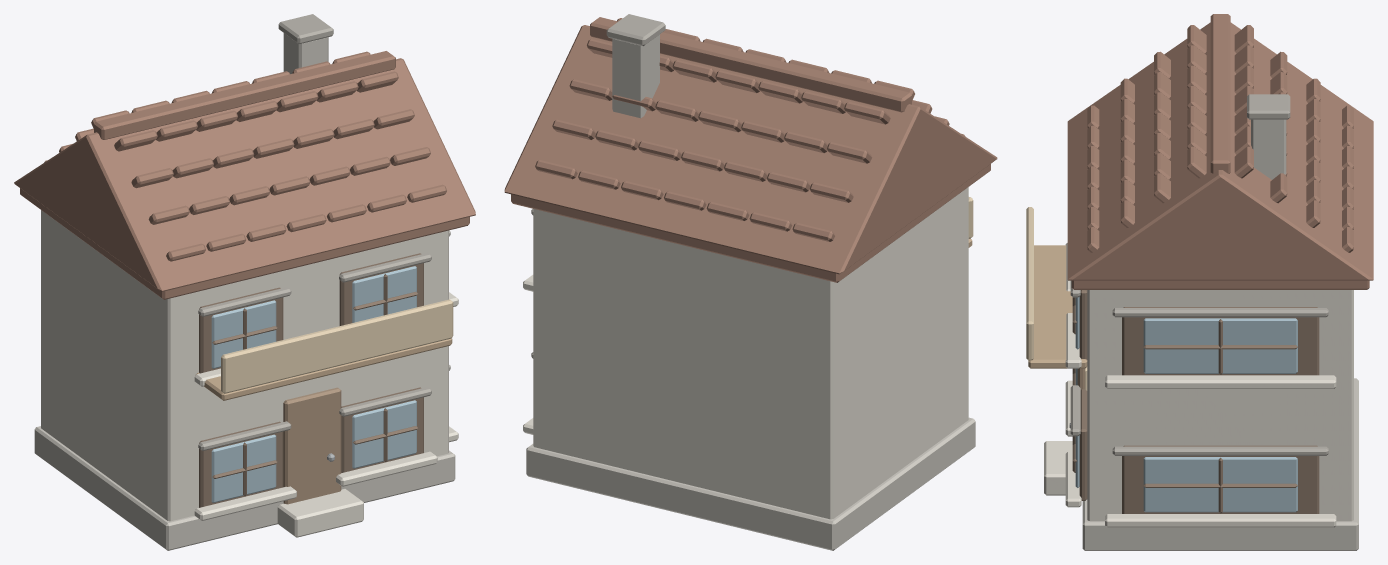
The model's file is house_stone_a.glb.
The picture shows the model from 3 angles, left to right: view 1: azimuth 30°, elevation 25°; view 2: azimuth 150°, elevation 25°; view 3: azimuth 270°, elevation 25°; orthographic projection. The views are drawn at different scales.
Visible parts, largest first — view 1: wall, roof, rail, skirt, ridge, dframe, eave, wglass.001, wglass, step, wglass.002, wglass.003 (+13 smaller); view 2: wall, roof, skirt, ridge, eave, chimney, chcap, shingle.049, shingle.050, shingle.051, shingle.052, shingle.053; view 3: roof, wall, wglass.004, wglass.005, skirt, balcony, wframe.005, wframe.004, ridge, wsill.004, wsill.005, eave (+16 smaller).
Boxes of the visible parts, x1,y1,x2,y2 form: wall: (41, 210, 448, 521); roof: (14, 58, 475, 291); rail: (221, 299, 453, 393); skirt: (34, 426, 455, 550); ridge: (94, 51, 395, 139); dframe: (283, 387, 341, 504); eave: (20, 188, 469, 299); wglass.001: (352, 400, 416, 468); wglass: (211, 434, 276, 502); step: (277, 489, 363, 537); wglass.002: (211, 300, 276, 368); wglass.003: (352, 266, 416, 322); wall: (533, 187, 968, 519); roof: (504, 25, 997, 274); skirt: (526, 417, 975, 550); ridge: (590, 17, 911, 112); eave: (511, 164, 990, 282); chimney: (612, 34, 659, 118); chcap: (606, 14, 665, 46); shingle.049: (844, 102, 890, 124); shingle.050: (801, 91, 845, 113); shingle.051: (758, 81, 802, 103); shingle.052: (715, 70, 759, 92); shingle.053: (672, 60, 717, 82); roof: (1067, 22, 1373, 280); wall: (1087, 290, 1353, 521); wglass.004: (1143, 457, 1297, 512); wglass.005: (1143, 318, 1297, 373); skirt: (1082, 378, 1358, 550); balcony: (1028, 245, 1087, 368); wframe.005: (1122, 307, 1319, 375); wframe.004: (1122, 445, 1319, 513); ridge: (1210, 14, 1230, 173); wsill.004: (1105, 514, 1336, 527); wsill.005: (1105, 375, 1336, 388); eave: (1071, 280, 1369, 289).
Bounding box in the file's own units: 1.92 × 2.37 × 1.76.
